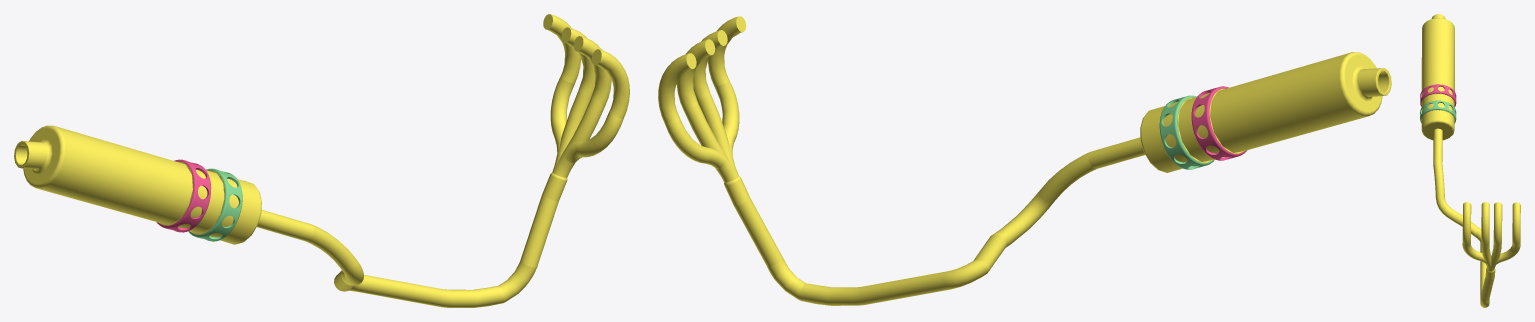
File: exhaust_system.glb
The picture shows the model from 3 angles, left to right: view 1: azimuth 30°, elevation 25°; view 2: azimuth 150°, elevation 25°; view 3: azimuth 270°, elevation 25°; orthographic projection. The views are drawn at different scales.
Visible parts, largest first — view 1: User Library-racing bike_racing bike.sldasm-Part-9-1, User Library-racing bike_racing bike.sldasm-Part-8-1, User Library-racing bike_racing bike.sldasm-Part-10-1; view 2: User Library-racing bike_racing bike.sldasm-Part-9-1, User Library-racing bike_racing bike.sldasm-Part-8-1, User Library-racing bike_racing bike.sldasm-Part-10-1; view 3: User Library-racing bike_racing bike.sldasm-Part-9-1, User Library-racing bike_racing bike.sldasm-Part-8-1, User Library-racing bike_racing bike.sldasm-Part-10-1.
Boxes of the visible parts, <box> form: User Library-racing bike_racing bike.sldasm-Part-9-1: <box>14,14,629,307</box>; User Library-racing bike_racing bike.sldasm-Part-8-1: <box>188,168,242,241</box>; User Library-racing bike_racing bike.sldasm-Part-10-1: <box>156,159,211,232</box>; User Library-racing bike_racing bike.sldasm-Part-9-1: <box>658,16,1391,305</box>; User Library-racing bike_racing bike.sldasm-Part-8-1: <box>1159,95,1214,169</box>; User Library-racing bike_racing bike.sldasm-Part-10-1: <box>1191,86,1246,160</box>; User Library-racing bike_racing bike.sldasm-Part-9-1: <box>1421,14,1520,307</box>; User Library-racing bike_racing bike.sldasm-Part-8-1: <box>1420,100,1456,123</box>; User Library-racing bike_racing bike.sldasm-Part-10-1: <box>1420,84,1456,107</box>.
Bounding box in the file's own units: 0.0907 × 0.0445 × 0.0243.
